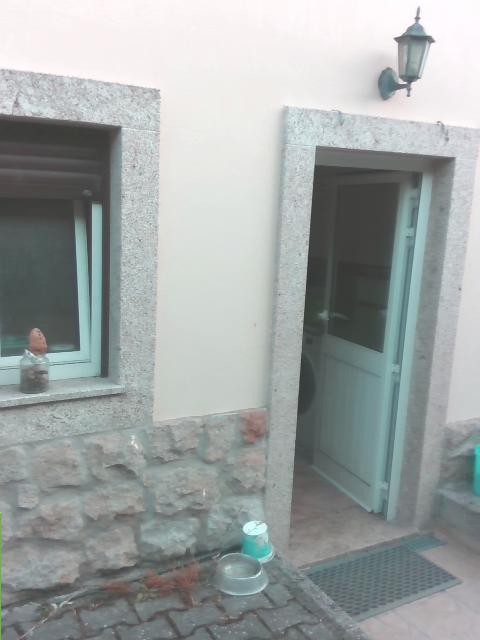open_door: (290, 145, 458, 557)
